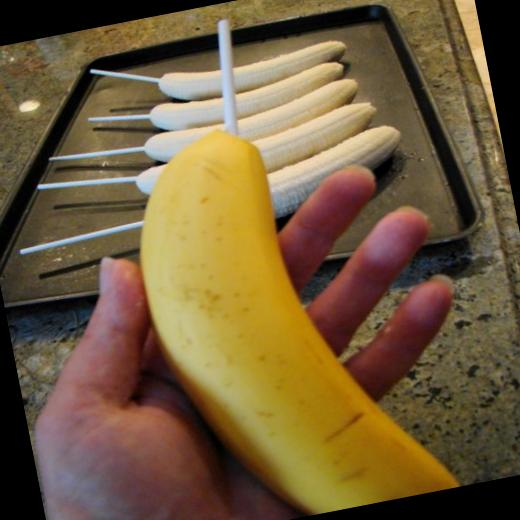Banana: (114, 92, 466, 520), (128, 99, 380, 195), (140, 76, 358, 160), (259, 120, 412, 218), (146, 64, 349, 137), (156, 37, 350, 108)
